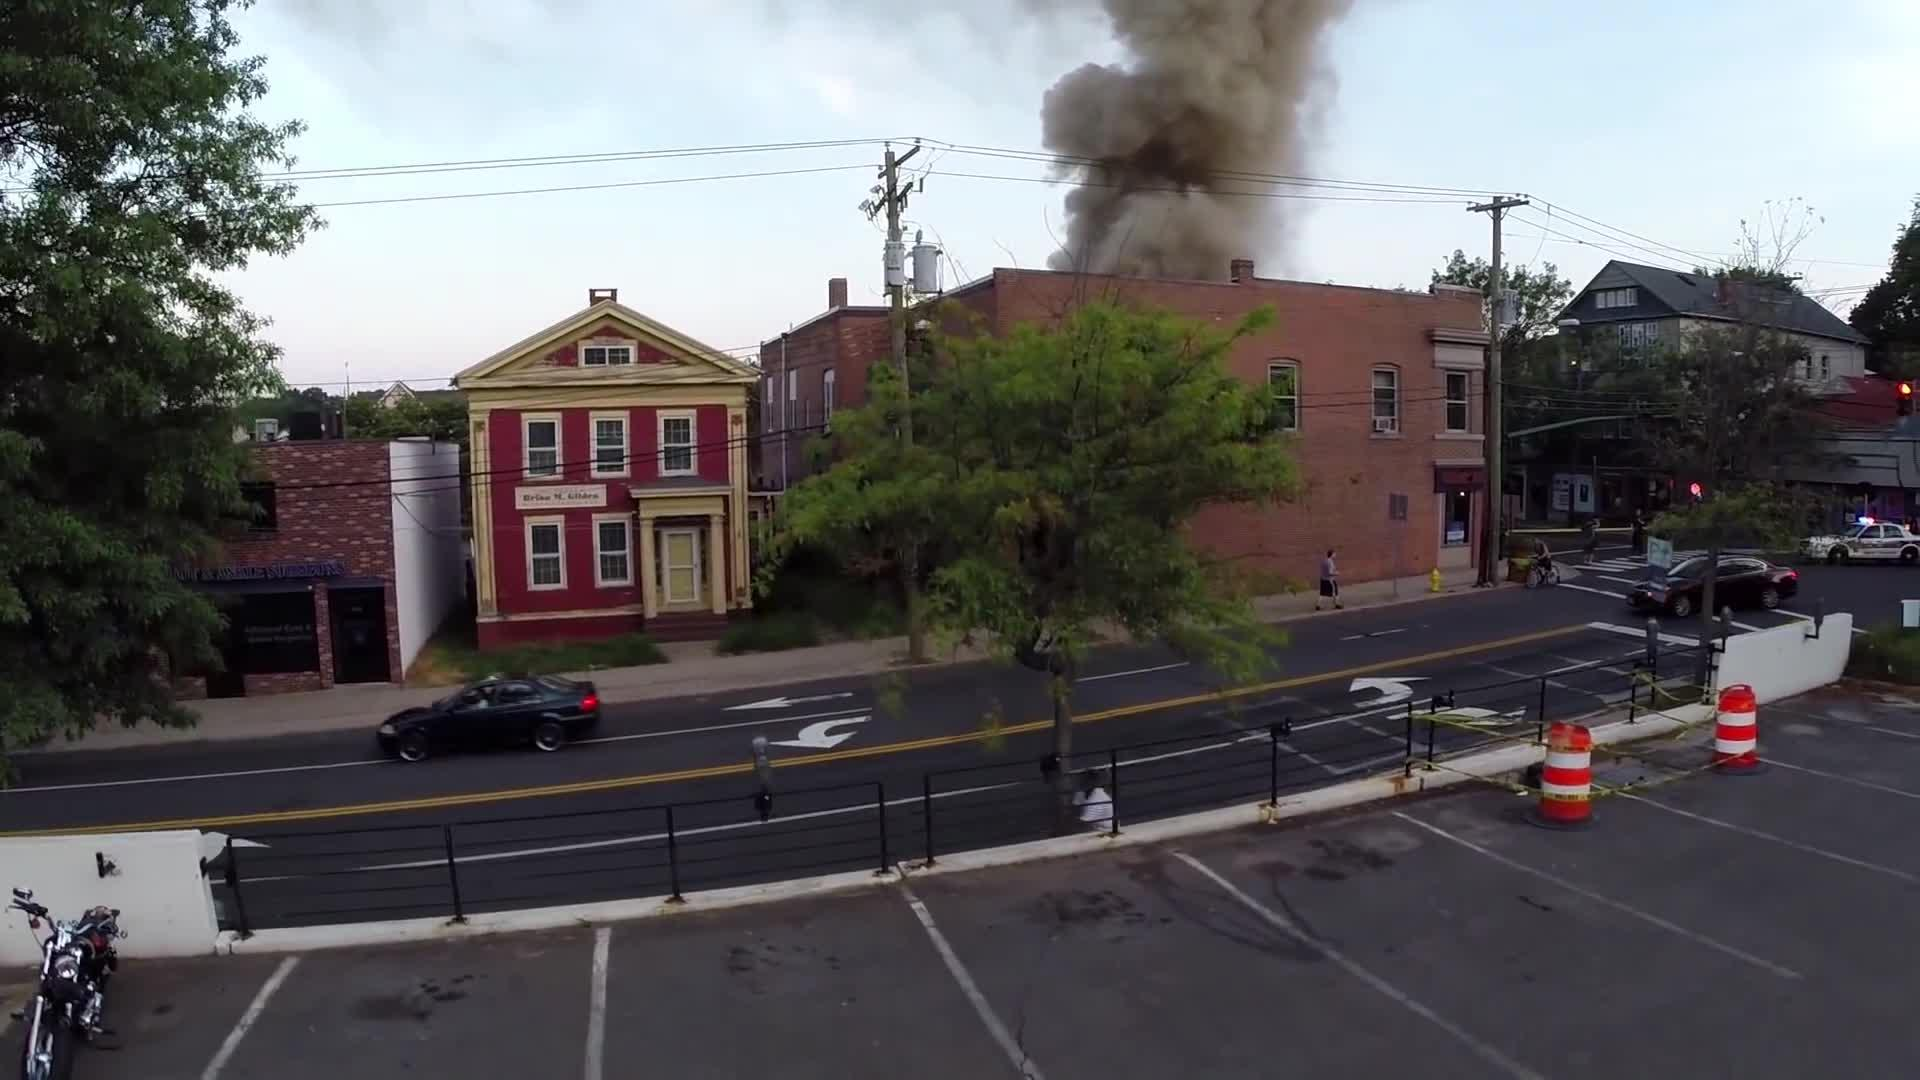smoke: (1052, 0, 1331, 295)
